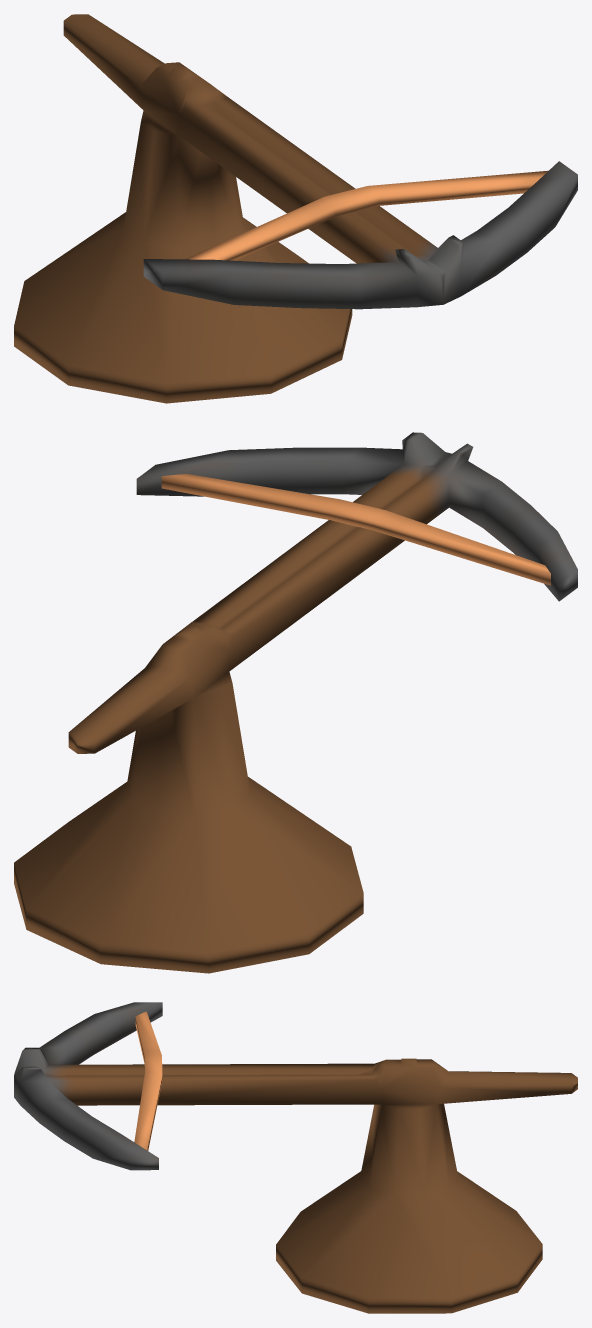
File: Crossbow.fbx
3 views of the same model, one above another, from view 1: azimuth 30°, elevation 25°; view 2: azimuth 150°, elevation 25°; view 3: azimuth 270°, elevation 25° (orthographic). The views are drawn at different scales.
Parts seen in each view (by area): view 1: pCube2; view 2: pCube2; view 3: pCube2.
Boxes of the visible parts, x1,y1,x2,y2 form: pCube2: (14, 14, 577, 403); pCube2: (14, 432, 577, 973); pCube2: (14, 1002, 577, 1313).
Size of the model in its own units: 0.7506 by 0.4561 by 1.15.
